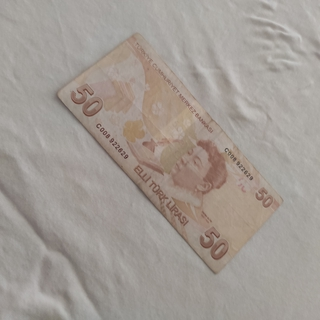50TLBack: (55, 32, 284, 274)
